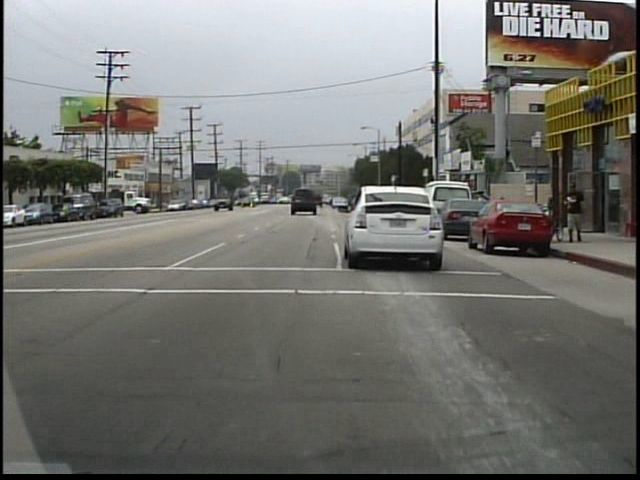person: (563, 174, 590, 247)
